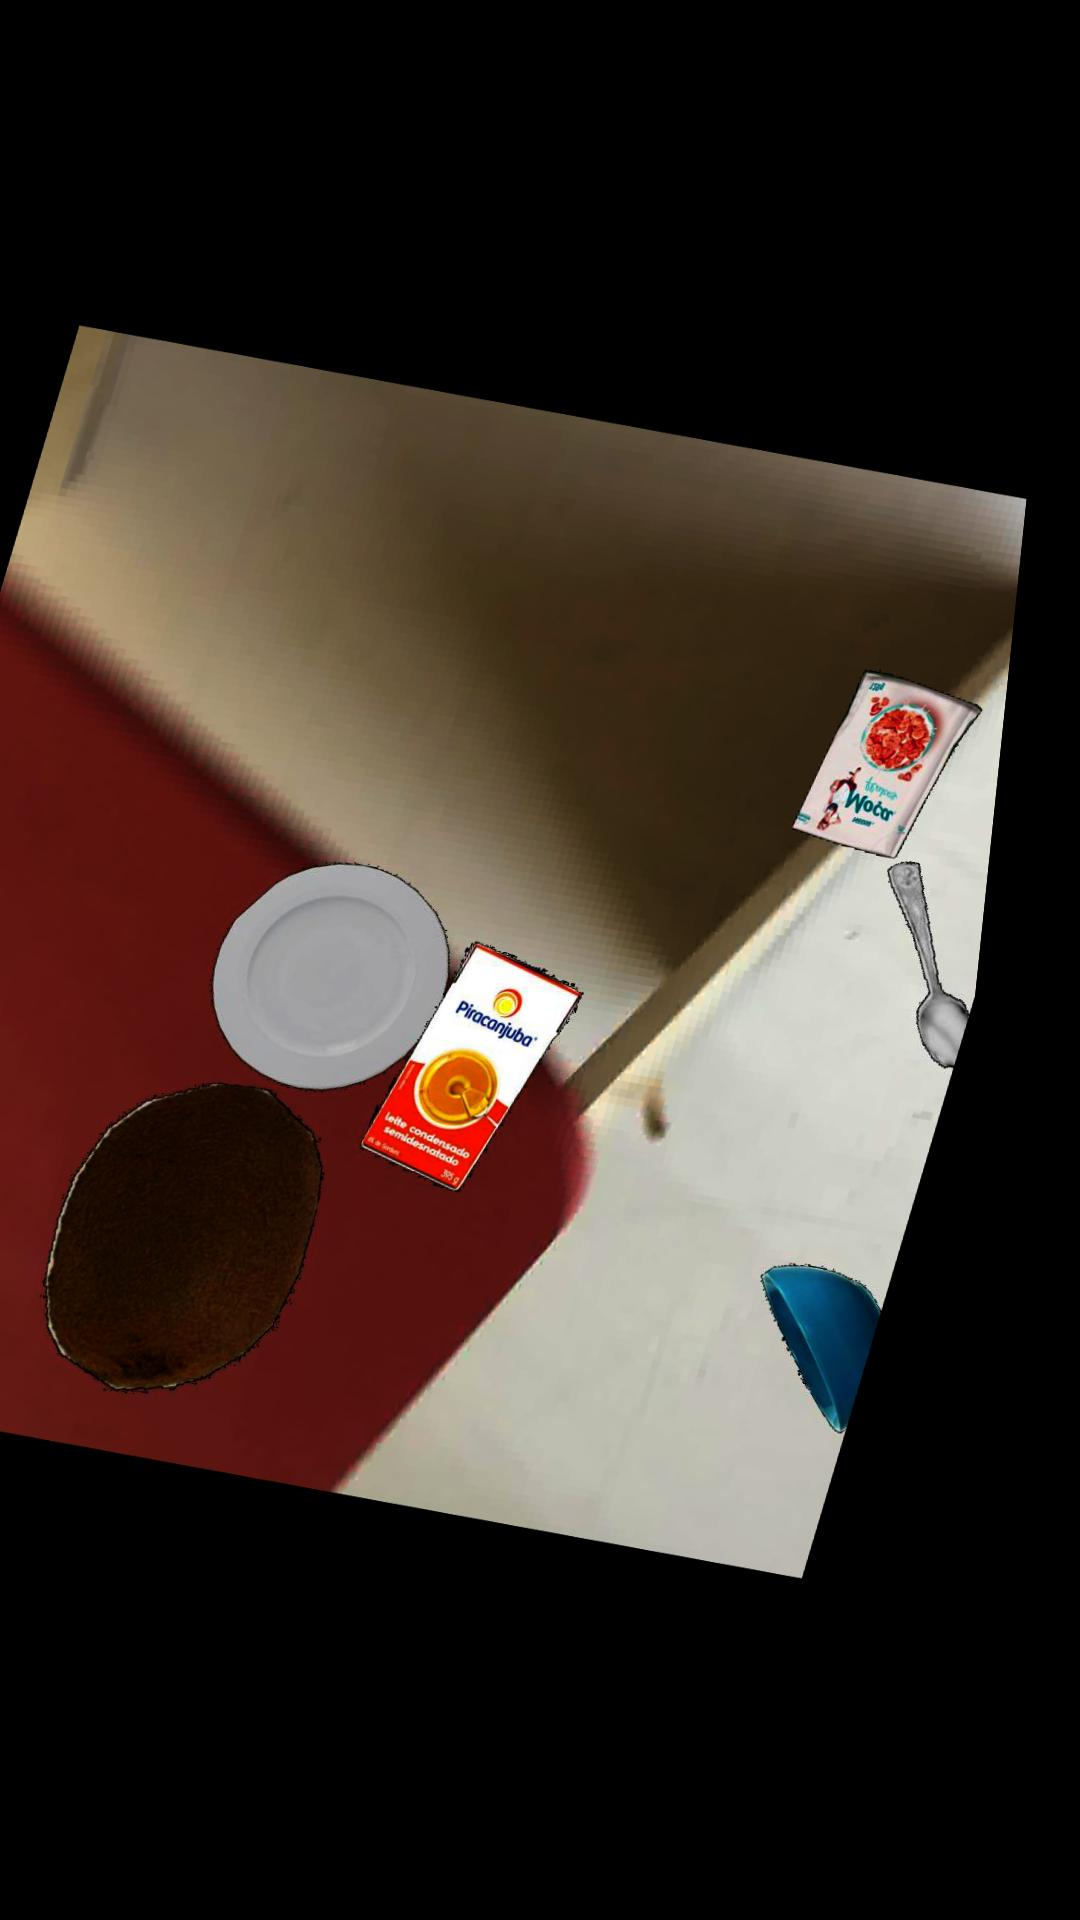bowl: (787, 1265, 911, 1435)
corn flakes: (808, 671, 996, 860)
kiwi: (69, 1081, 347, 1390)
plate: (231, 862, 469, 1091)
spoon: (905, 862, 992, 1069)
